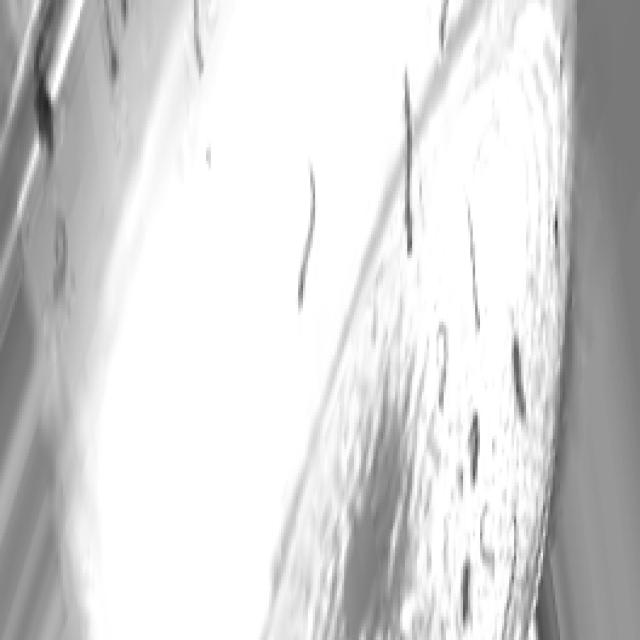larvas: (295, 165, 319, 304), (36, 21, 56, 151), (400, 72, 414, 253), (466, 210, 486, 336), (429, 324, 452, 407), (191, 0, 219, 68), (92, 0, 116, 77), (507, 507, 521, 624), (512, 324, 528, 421), (50, 221, 70, 294), (477, 506, 494, 569), (462, 422, 480, 478), (458, 558, 471, 621), (438, 0, 448, 62), (114, 0, 132, 23)
